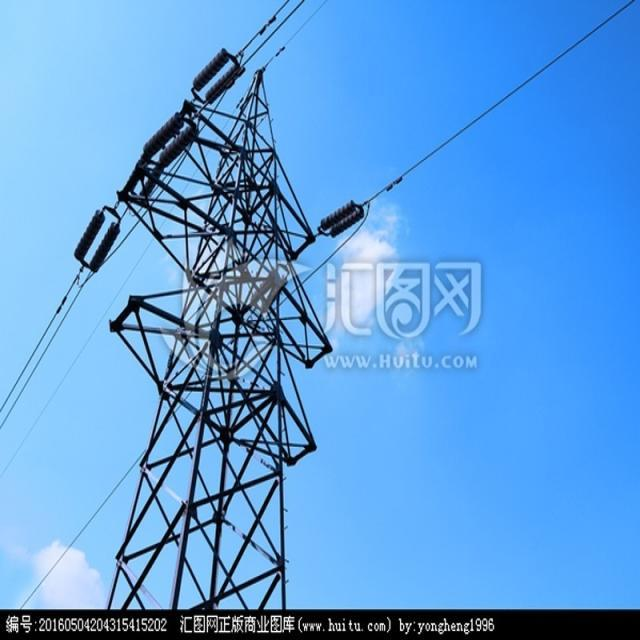non-critical vegetation: (106, 77, 354, 610)
